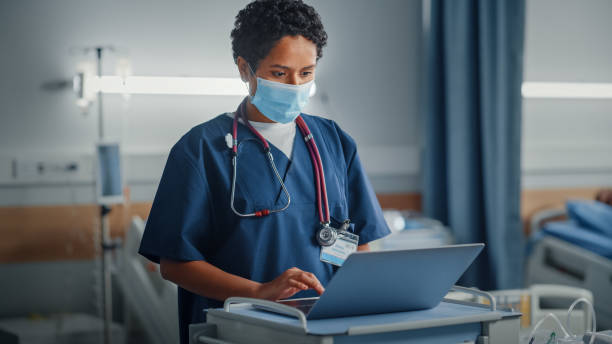with mask: (233, 13, 327, 124)
